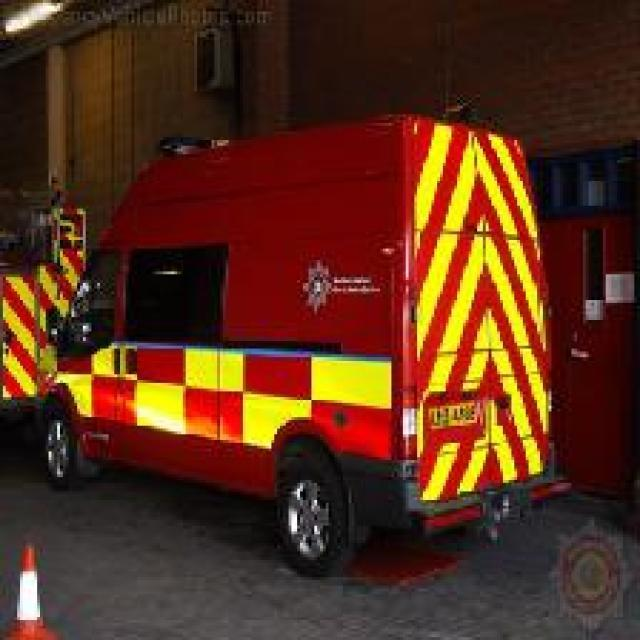emergency: (27, 108, 571, 580), (0, 172, 90, 452)
